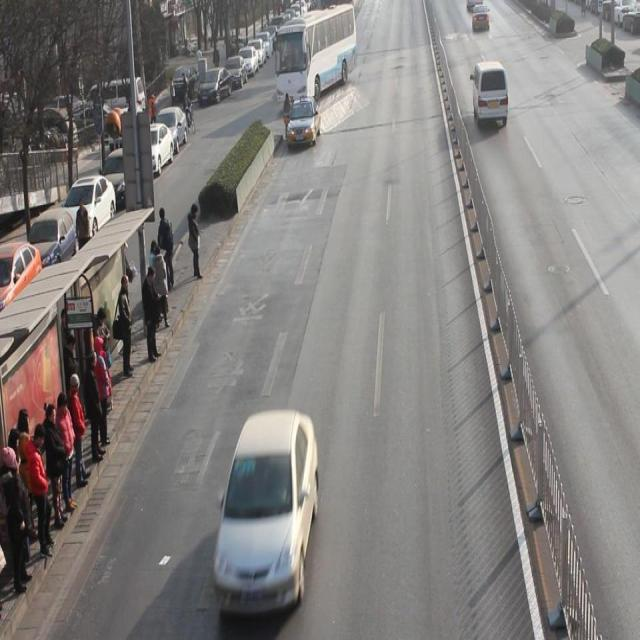car: (214, 407, 320, 618), (286, 96, 322, 148)
truck: (472, 61, 509, 126)
van: (274, 8, 356, 99)
